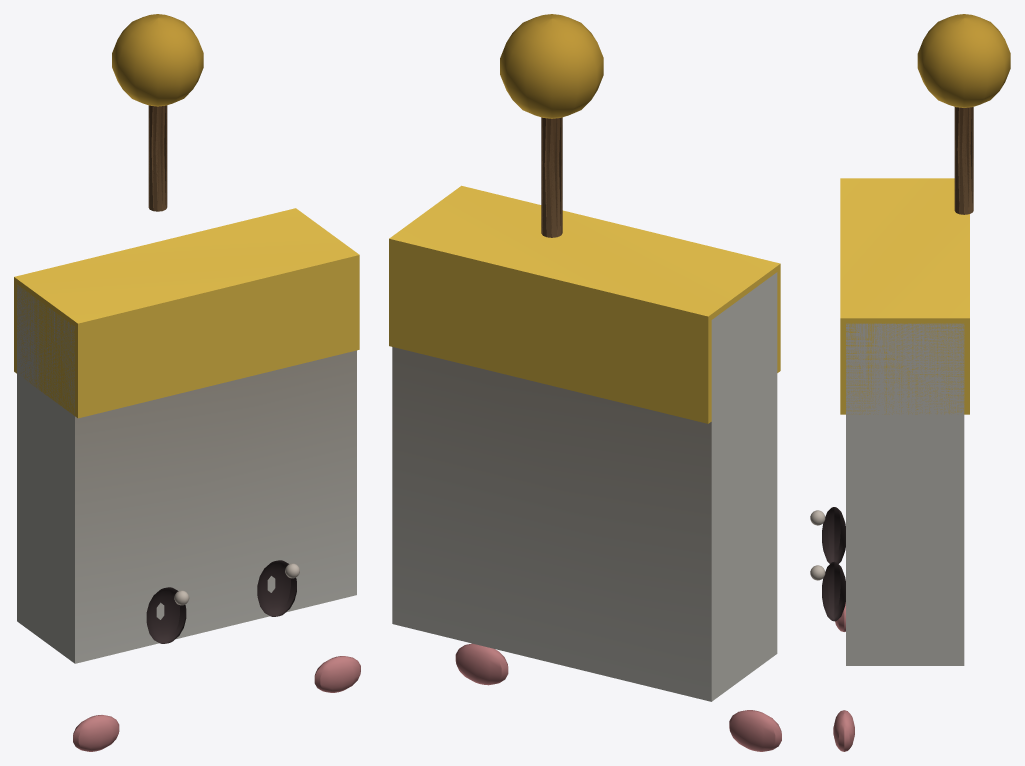
3 renders of one model, left to right at view 1: azimuth 30°, elevation 25°; view 2: azimuth 150°, elevation 25°; view 3: azimuth 270°, elevation 25°, orthographic. The views are drawn at different scales.
Visible parts, largest first — view 1: pet_p22d07222; view 2: pet_p22d07222; view 3: pet_p22d07222.
Boxes of the visible parts, box(x1,y1,x2,y2) form: pet_p22d07222: box(14, 14, 360, 751); pet_p22d07222: box(389, 14, 781, 751); pet_p22d07222: box(810, 14, 1010, 751).
Size of the model in its own units: 0.2861 by 0.6264 by 0.1698.
